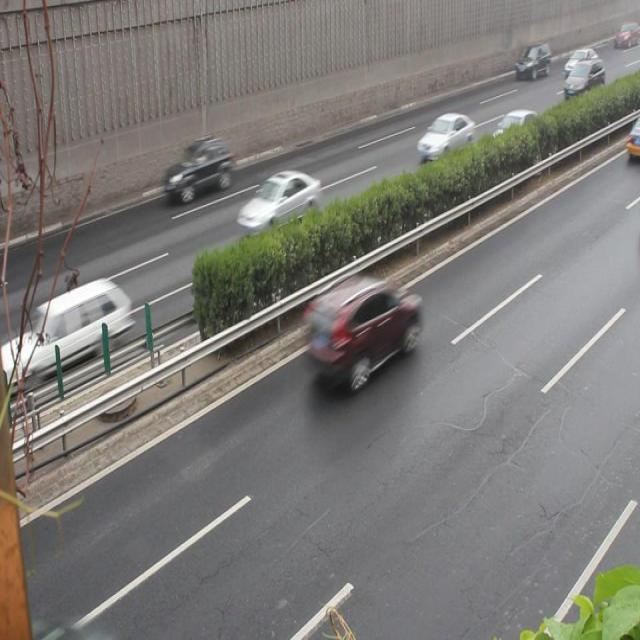car: (304, 275, 416, 384), (18, 277, 131, 376), (237, 168, 321, 241), (161, 134, 232, 201), (484, 109, 541, 164), (416, 112, 474, 163), (514, 41, 549, 80)
